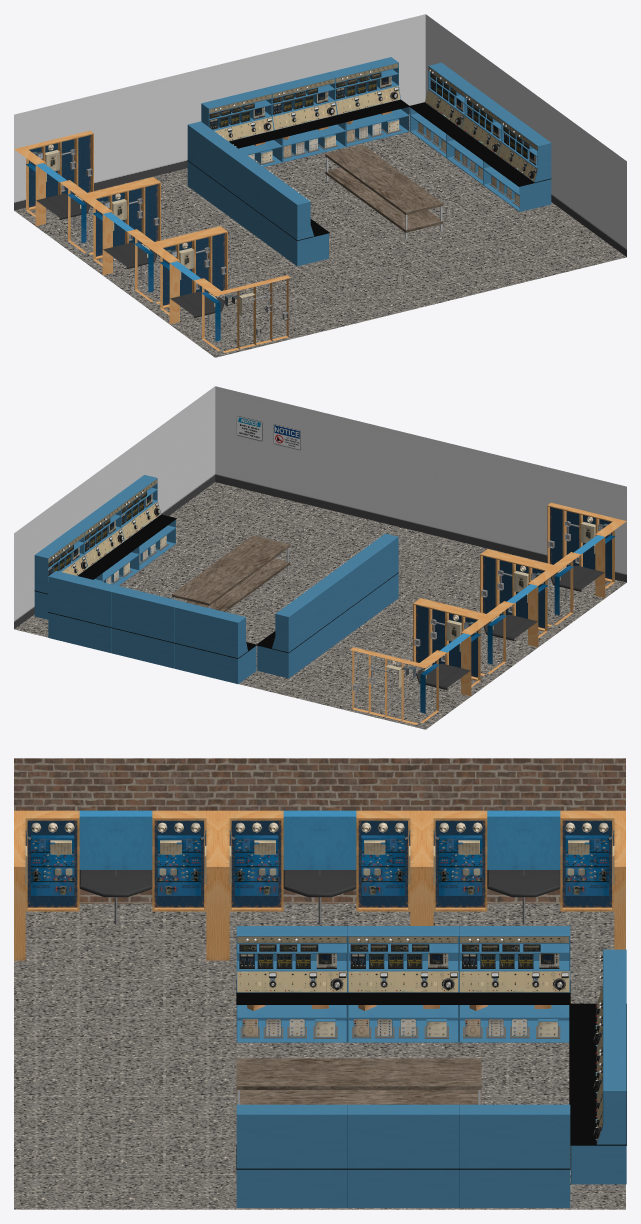
The picture shows the model from 3 angles, top to bottom: view 1: azimuth 30°, elevation 25°; view 2: azimuth 150°, elevation 25°; view 3: azimuth 270°, elevation 25°; orthographic projection. The views are drawn at different scales.
Visible parts, largest first — view 1: floor_geo_5, TestBench_Main_geo10_13, walls_geo_7, polySurface101_0, table_geo_10; view 2: walls_geo_7, floor_geo_5, TestBench_Main_geo10_13, polySurface101_0, table_geo_10; view 3: floor_geo_5, TestBench_Main_geo10_13, polySurface101_0, walls_geo_7, table_geo_10.
Boxes of the visible parts, <box> form: floor_geo_5: <box>14,114,626,357</box>; TestBench_Main_geo10_13: <box>187,57,551,266</box>; walls_geo_7: <box>14,14,626,256</box>; polySurface101_0: <box>14,130,290,352</box>; table_geo_10: <box>325,144,443,239</box>; walls_geo_7: <box>14,386,626,628</box>; floor_geo_5: <box>14,482,626,729</box>; TestBench_Main_geo10_13: <box>34,475,398,683</box>; polySurface101_0: <box>350,502,626,724</box>; table_geo_10: <box>172,535,290,611</box>; floor_geo_5: <box>14,904,625,1209</box>; TestBench_Main_geo10_13: <box>236,926,626,1207</box>; polySurface101_0: <box>14,810,625,960</box>; walls_geo_7: <box>14,758,625,903</box>; table_geo_10: <box>236,1058,481,1116</box>.
Size of the model in its own units: 13 by 2.9 by 11.02.
6 materials, 6 textured.
